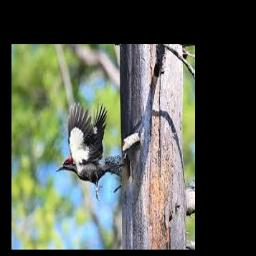Woodpecker: (55, 102, 125, 201)
